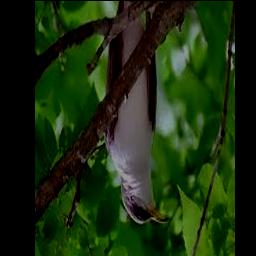Cuckoo: (104, 1, 168, 226)
